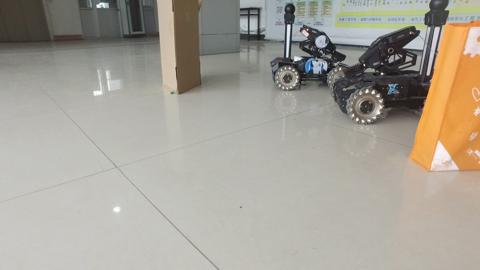box: (157, 2, 202, 93)
chariot: (329, 1, 447, 125), (270, 6, 348, 91)
